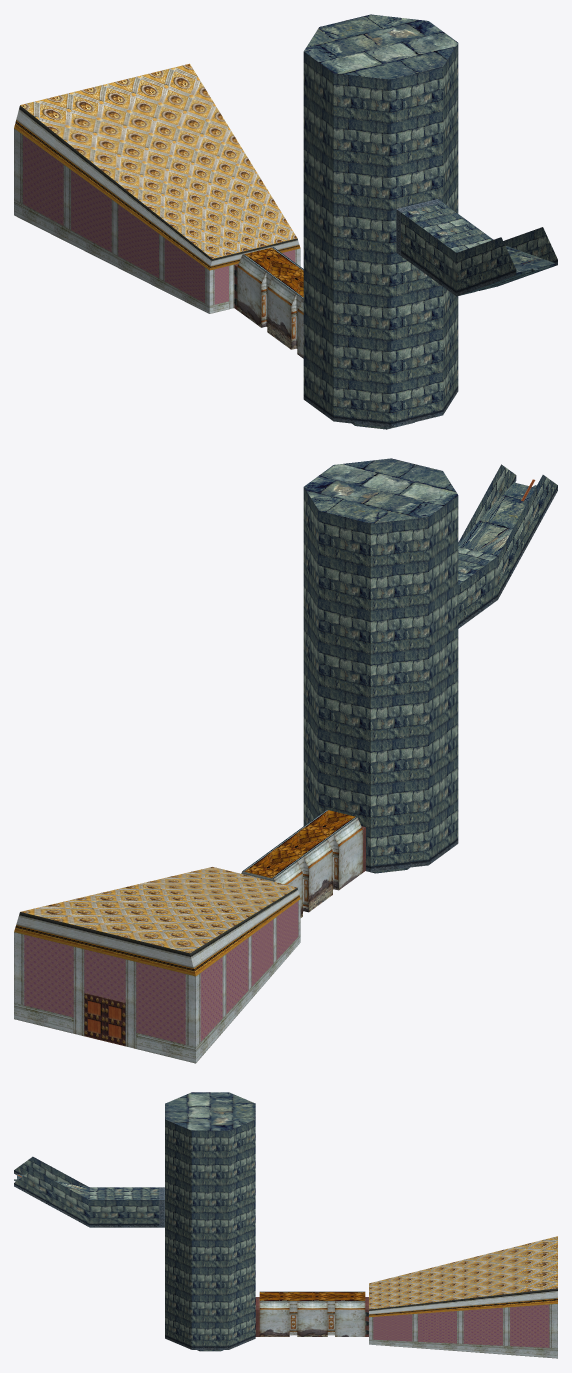
File: Terror_hall5.obj
3 views of the same model, one above another, from view 1: azimuth 30°, elevation 25°; view 2: azimuth 150°, elevation 25°; view 3: azimuth 270°, elevation 25° (orthographic). The views are drawn at different scales.
Visible parts, largest first — view 1: Object_2; view 2: Object_2; view 3: Object_2.
Part boxes in pixels (x1,y1,x2,y2): Object_2: (14, 14, 557, 429); Object_2: (14, 458, 557, 1063); Object_2: (14, 1092, 557, 1358).
Size of the model in its own units: 350 by 670 by 1440.
